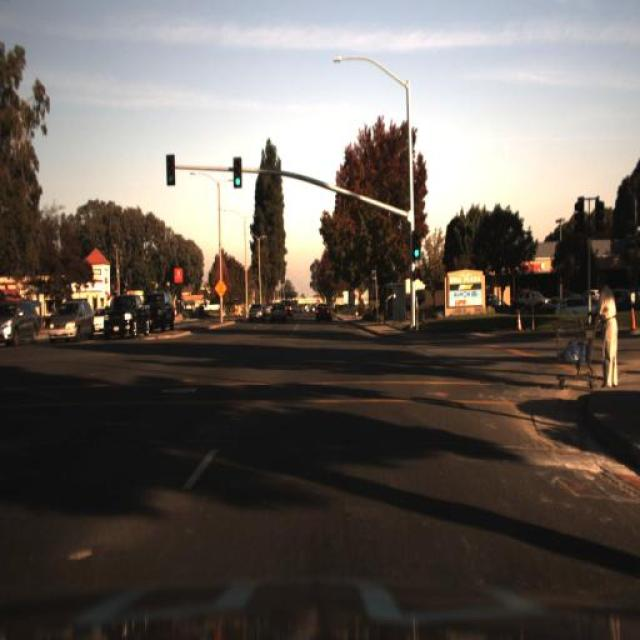car: (99, 288, 152, 342), (45, 295, 93, 343), (102, 294, 152, 334), (141, 286, 178, 330), (148, 286, 182, 330), (510, 284, 554, 312), (558, 297, 594, 318), (266, 295, 289, 327), (243, 302, 266, 327), (314, 299, 332, 329)
trafficLight: (553, 282, 621, 398)
trafficLight-GreenLeft: (230, 156, 245, 193), (410, 227, 421, 264), (232, 154, 242, 192), (412, 229, 420, 263)
trafficLight-Red: (166, 152, 177, 187), (167, 152, 176, 192)
